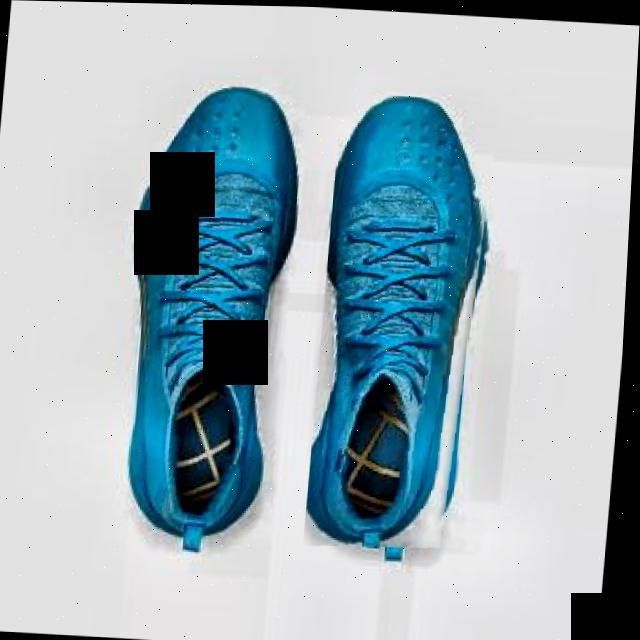shoe: (112, 80, 307, 546), (308, 91, 503, 553)
